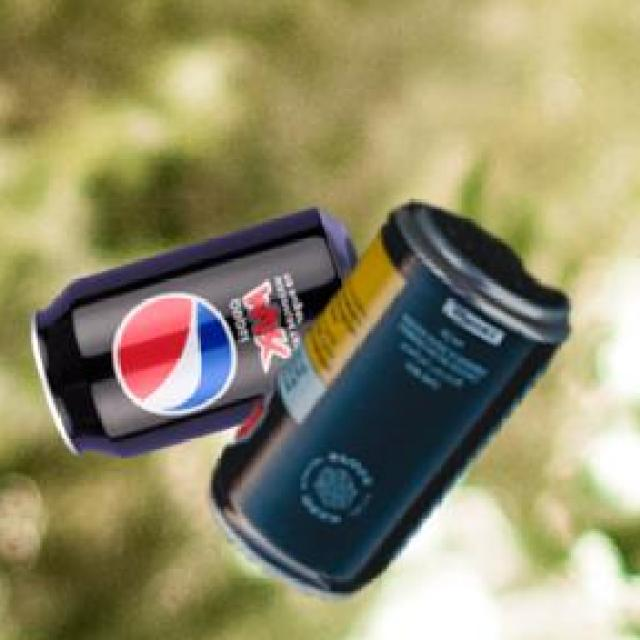logam: (206, 206, 566, 601), (28, 212, 357, 461)
